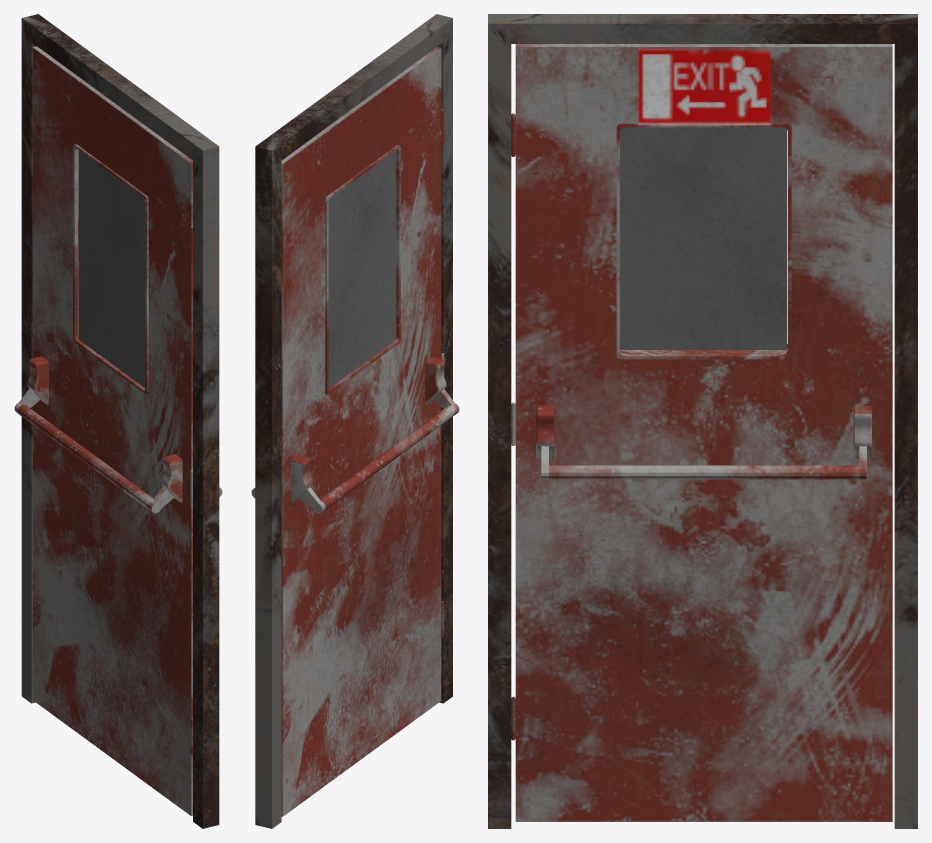
Rendered from exit_door.glb.
3 views of the same model, side by side, from view 1: azimuth 30°, elevation 25°; view 2: azimuth 150°, elevation 25°; view 3: azimuth 270°, elevation 25° (orthographic). The views are drawn at different scales.
Parts seen in each view (by area): view 1: Object_2; view 2: Object_2; view 3: Object_2.
Boxes of the visible parts, x1,y1,x2,y2 form: Object_2: [14, 14, 222, 828]; Object_2: [251, 14, 459, 828]; Object_2: [488, 14, 917, 828].
Bounding box in the file's own units: 0.2719 × 2.49 × 1.2.
Materials: 1 (1 with a texture image).
